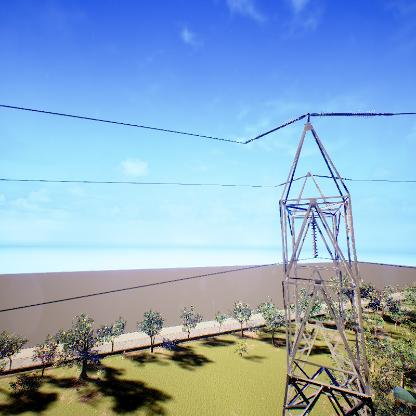insulator: (252, 114, 305, 141), (310, 109, 394, 120), (310, 217, 319, 261)
